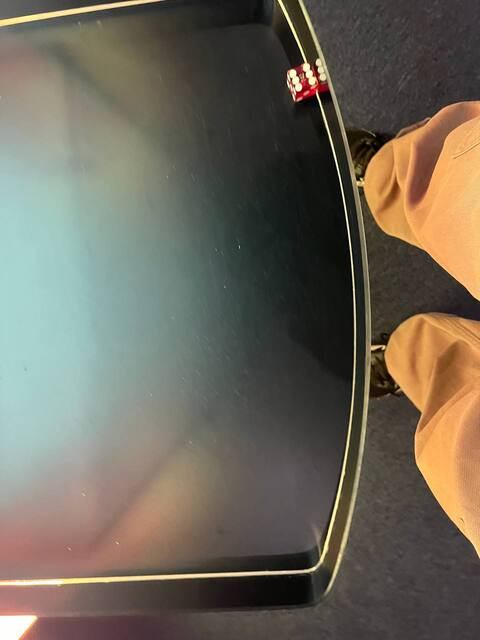six: (285, 59, 320, 98)
